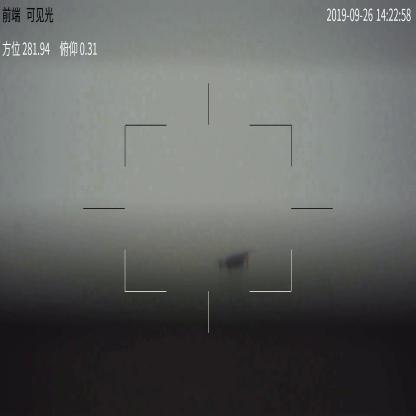uav: (215, 251, 252, 278)
